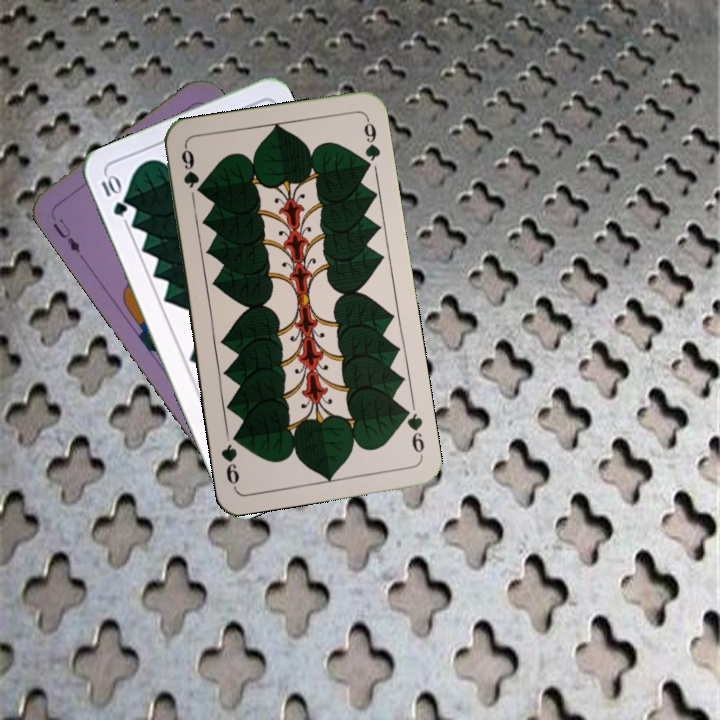EU: (48, 214, 83, 256)
G10: (97, 171, 130, 219)
G9: (398, 403, 427, 460), (177, 143, 202, 190)
